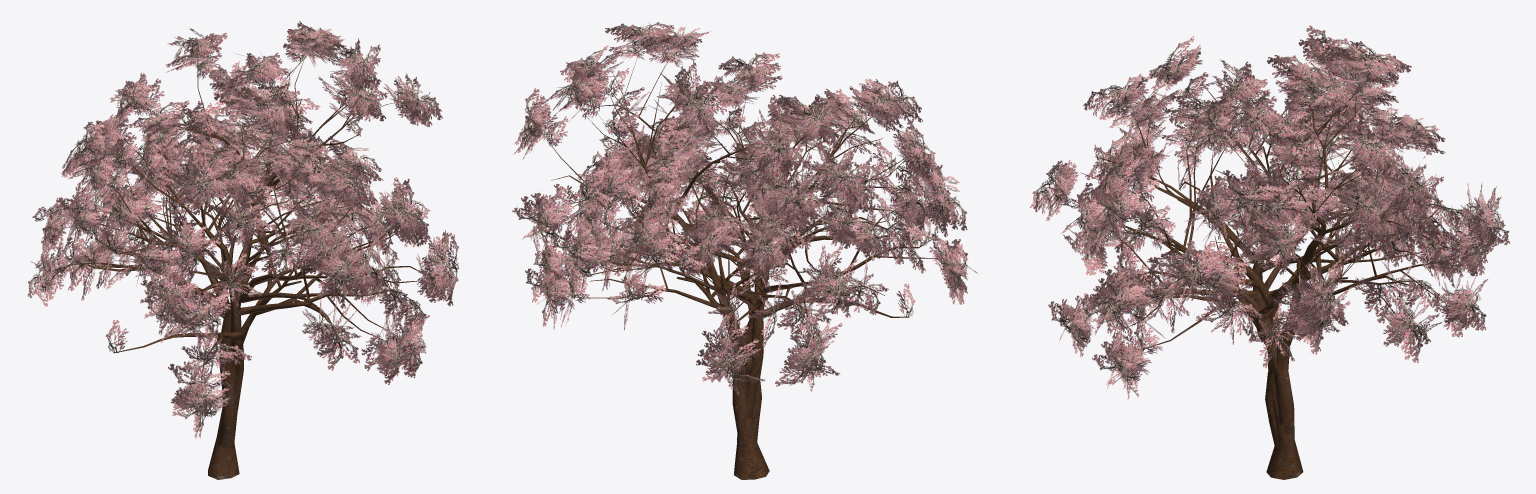
Rendered from Cherry2_LOD.gltf.
3 views of the same model, side by side, from view 1: azimuth 30°, elevation 25°; view 2: azimuth 150°, elevation 25°; view 3: azimuth 270°, elevation 25° (orthographic). The views are drawn at different scales.
Visible parts, largest first — view 1: cherry_2_lod_Tree_1Mat_0, cherry_2_lod_Tree_0Mat_0; view 2: cherry_2_lod_Tree_1Mat_0, cherry_2_lod_Tree_0Mat_0; view 3: cherry_2_lod_Tree_1Mat_0, cherry_2_lod_Tree_0Mat_0.
Boxes of the visible parts, x1,y1,x2,y2 form: cherry_2_lod_Tree_1Mat_0: (27,21,458,438); cherry_2_lod_Tree_0Mat_0: (50,51,438,479); cherry_2_lod_Tree_1Mat_0: (512,22,977,395); cherry_2_lod_Tree_0Mat_0: (543,52,946,479); cherry_2_lod_Tree_1Mat_0: (1030,25,1509,400); cherry_2_lod_Tree_0Mat_0: (1080,75,1464,479).
Bounding box in the file's own units: 161 × 176 × 182.
2 materials, 2 textured.
